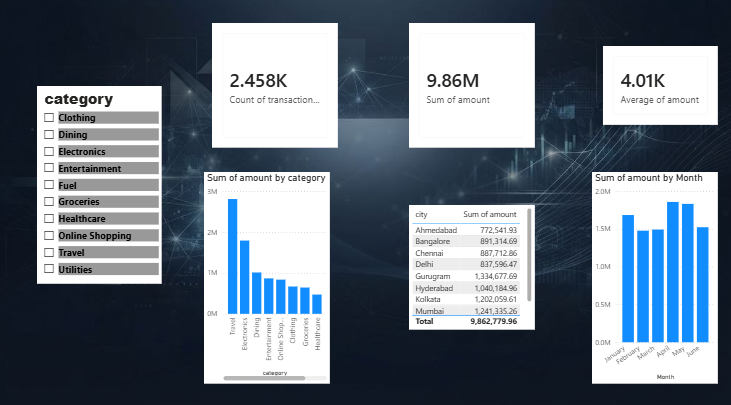

The page's visual inventory and layout, read from the dashboard file:
{"tool":"powerbi","page":{"name":"Page 1","canvas":[1280,720],"ordinal":0},"visuals":[{"type":"cardVisual","fields":{"Data":["Sum(credit_card_transactions.amount)"]},"box":[712.2,45.4,216.7,215],"z":0},{"type":"cardVisual","fields":{"Data":["Avg(credit_card_transactions.amount)"]},"box":[1046.5,84,198.2,136.1],"z":1000},{"type":"cardVisual","fields":{"Data":["CountNonNull(credit_card_transactions.transaction_id)"]},"box":[372.9,45.4,216.7,215],"z":2000},{"type":"clusteredColumnChart","fields":{"Category":["credit_card_transactions.category"],"Y":["Sum(credit_card_transactions.amount)"]},"box":[359.5,302.4,216.7,364.5],"z":2002},{"type":"lineStackedColumnComboChart","fields":{"Category":["credit_card_transactions.timestamp.Variation.Date Hierarchy.Month"],"Y":["Sum(credit_card_transactions.amount)"]},"box":[1028,302.4,216.7,364.5],"z":2003},{"type":"tableEx","fields":{"Values":["credit_card_transactions.city","Sum(credit_card_transactions.amount)"]},"box":[712.2,359.5,216.7,215],"z":2004},{"type":"slicer","fields":{"Values":["credit_card_transactions.category"]},"box":[70.6,152.9,215,341],"z":2005}]}

Visuals, with their boxes in screenshot pixels (x1, y1, x2, y2), scaled from the page's 1280x720 canvas onto the 731x405 screenshot:
cardVisual - Sum(credit_card_transactions.amount): 407:26:530:146
cardVisual - Avg(credit_card_transactions.amount): 598:47:711:124
cardVisual - CountNonNull(credit_card_transactions.transaction_id): 213:26:337:146
clusteredColumnChart - credit_card_transactions.category x Sum(credit_card_transactions.amount): 205:170:329:375
lineStackedColumnComboChart - credit_card_transactions.timestamp.Variation.Date Hierarchy.Month x Sum(credit_card_transactions.amount): 587:170:711:375
tableEx - credit_card_transactions.city x Sum(credit_card_transactions.amount): 407:202:530:323
slicer - credit_card_transactions.category: 40:86:163:278
